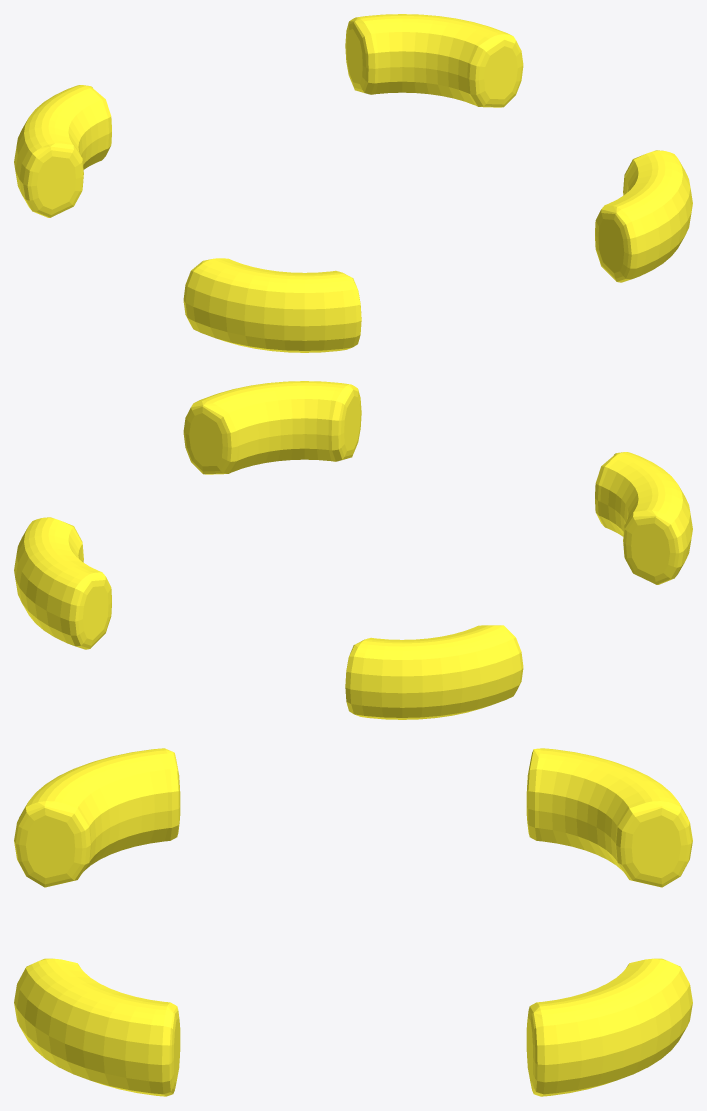
The model's file is CursorOption2.glb.
3 renders of one model, top to bottom at view 1: azimuth 30°, elevation 25°; view 2: azimuth 150°, elevation 25°; view 3: azimuth 270°, elevation 25°, orthographic. The views are drawn at different scales.
Visible parts, largest first — view 1: Torus; view 2: Torus; view 3: Torus.
Boxes of the visible parts, x1=… form: Torus: x1=14, y1=14, x2=692, y2=352; Torus: x1=14, y1=381, x2=692, y2=719; Torus: x1=14, y1=748, x2=692, y2=1096.
Bounding box in the file's own units: 2.16 × 0.3053 × 2.16.
